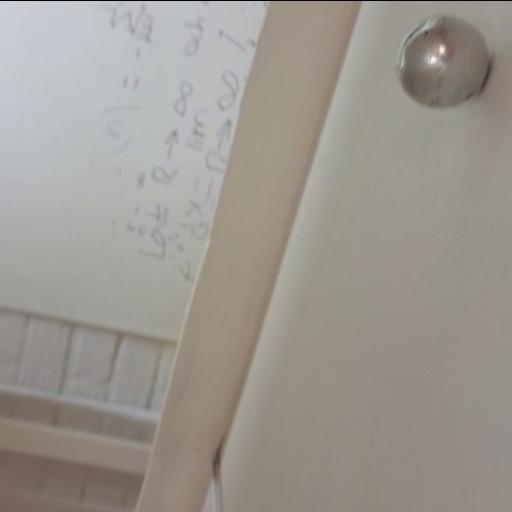alive: (393, 15, 493, 109)
